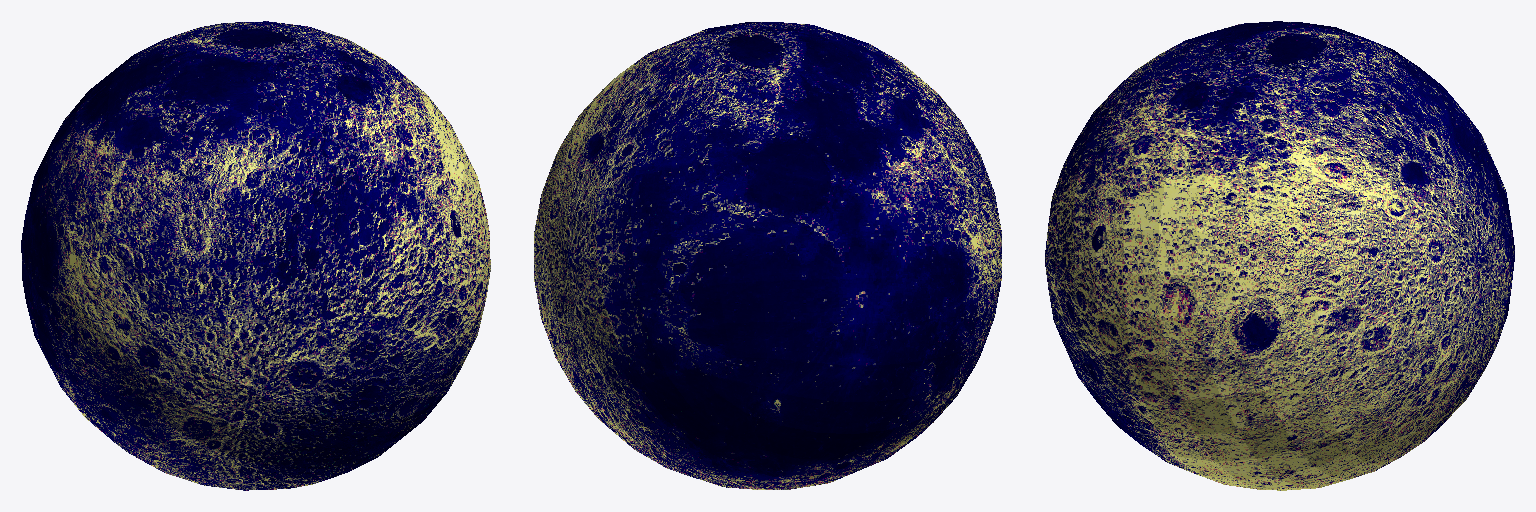
3 renders of one model, left to right at view 1: azimuth 30°, elevation 25°; view 2: azimuth 150°, elevation 25°; view 3: azimuth 270°, elevation 25°, orthographic.
Size of the model in its own units: 3.48 by 3.48 by 3.49.
1 materials, 1 textured.